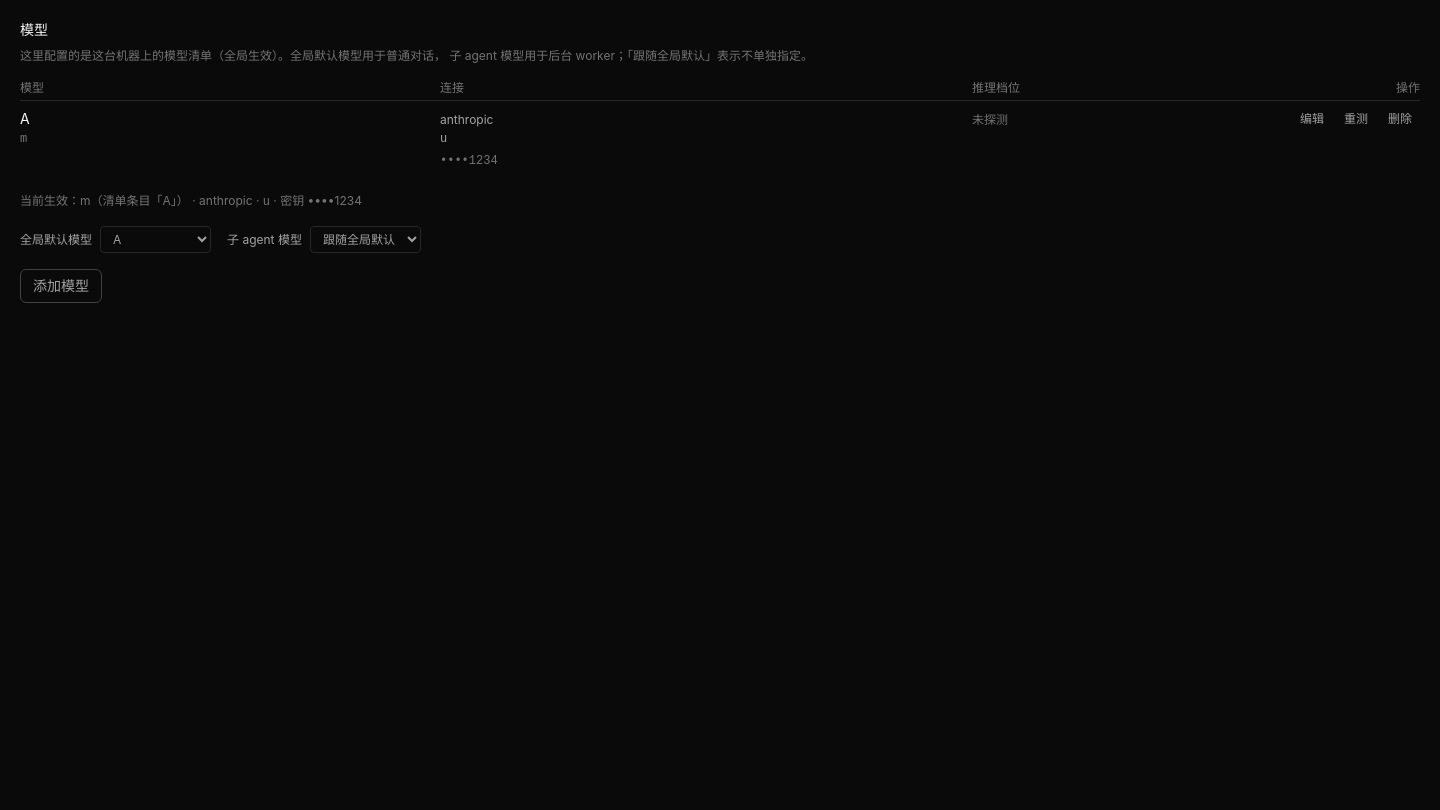
SettingsModelsTab › labels the provider field as "API 格式" in the form and shows the value in the row
Expected: the text "••••1234" is shown, [440,154,498,168]
Expected: the column heading "连接" is shown, [440,76,972,100]
// 新增/编辑表单的字段标签仍是「API 格式」——那里是**填值**的地方，标签要明确。
Click the button "编辑".
click(1312, 119)  # box [1292,109,1332,129]
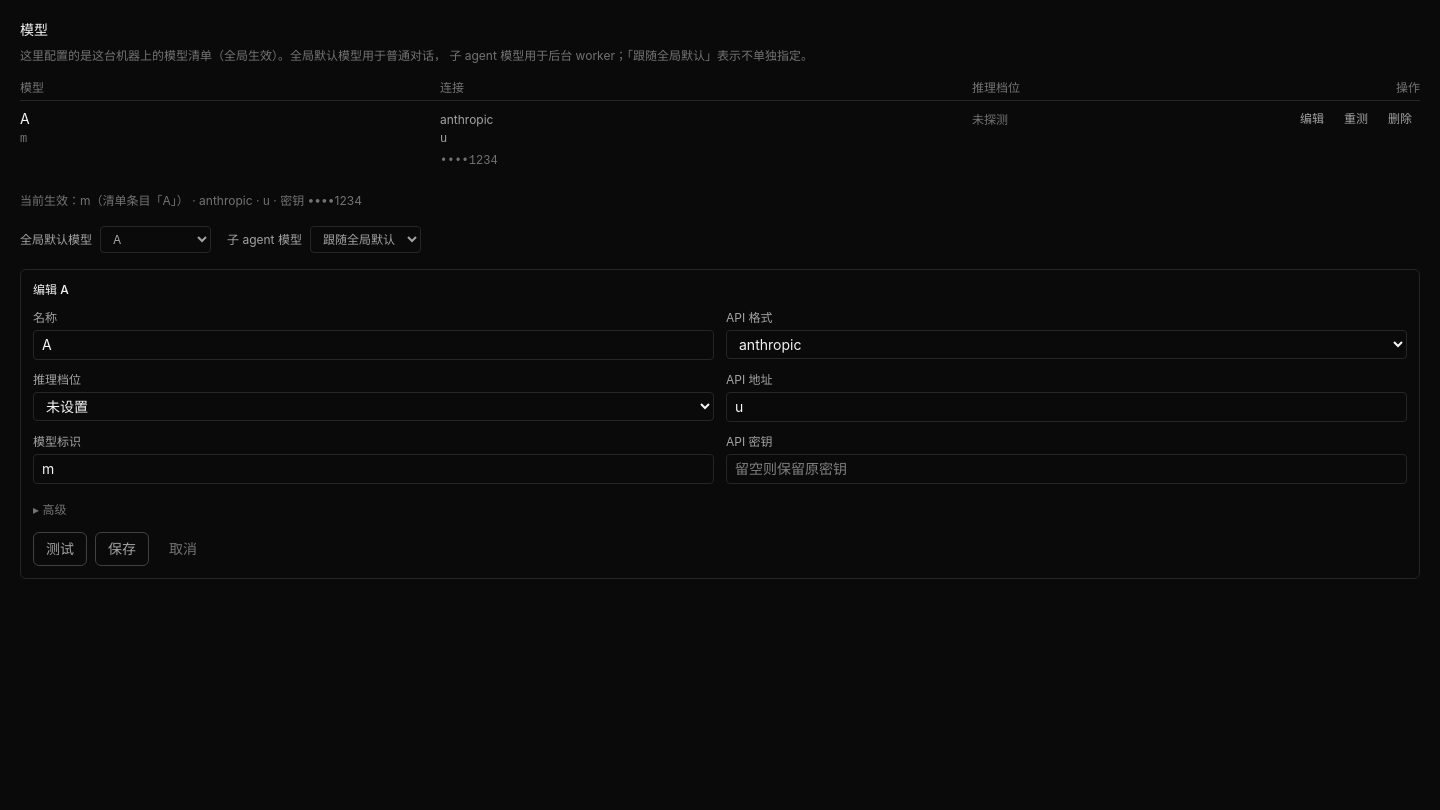
Expected: the dropdown labelled "API 格式" is shown, [726,330,1407,359]
